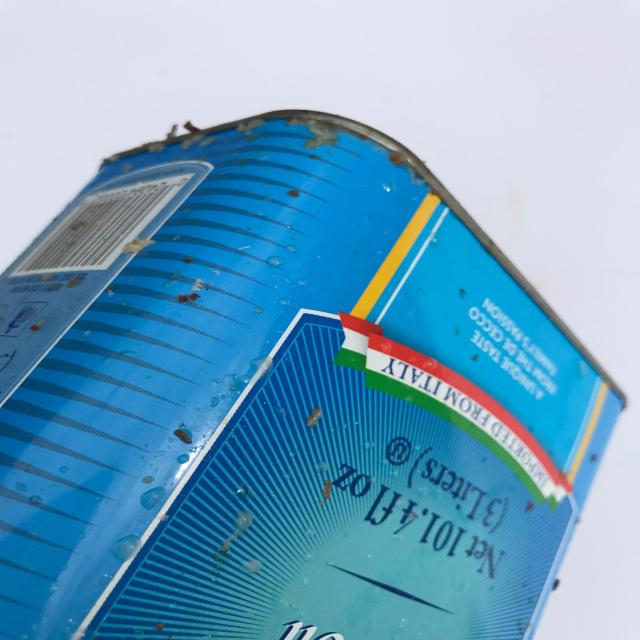metal: (1, 108, 628, 639)
